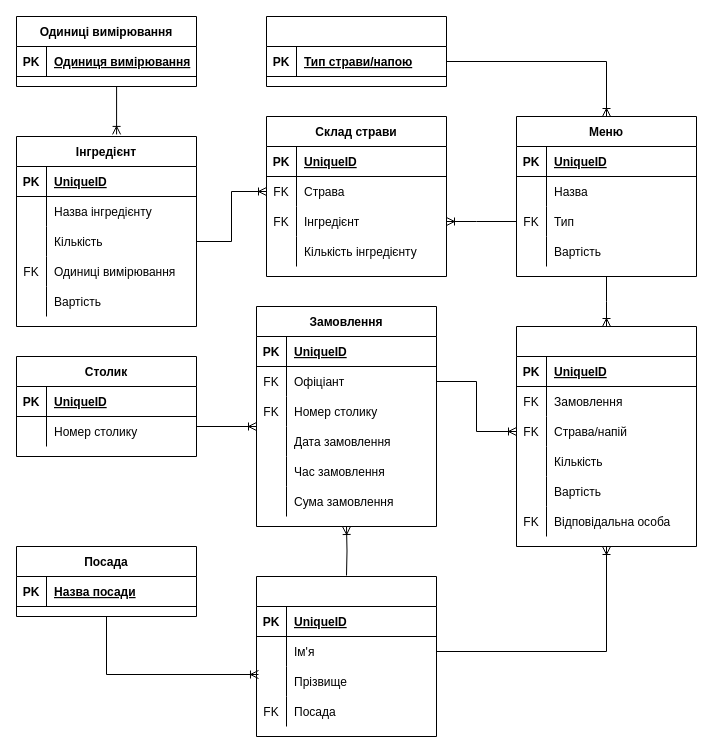
Some shapes in this 713 by 753 pixel diagram are drawn without their labels. Here are the shapes that lost their labels. From the top down, the box of each, then its label:
(266, 16, 446, 86): Група страви/напій
(516, 326, 696, 546): Рядок замовлення
(256, 576, 436, 736): Співробітник
